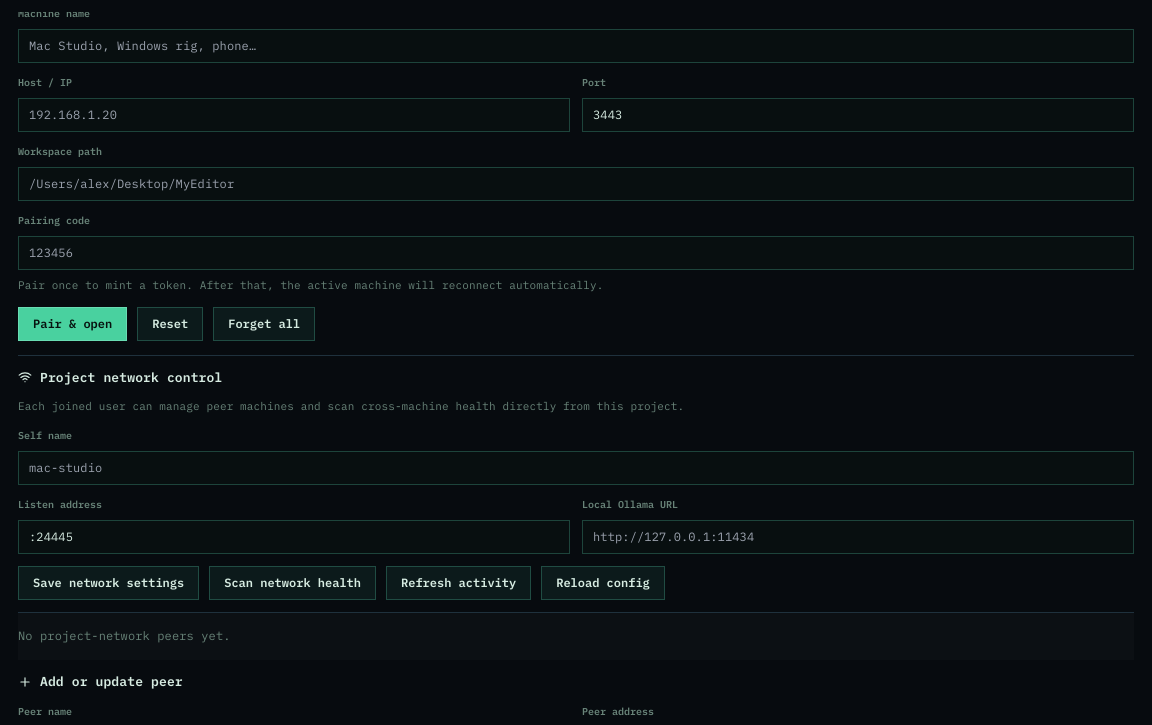
Test: MachineConnectionsPanel workflows › NoPairCodeAndNoToken_ErrorShown
(page scrolled)
Type "10.0.0.1" into the field with placeholder "192.168.1.20" at (294, 115), box [18, 98, 570, 132]
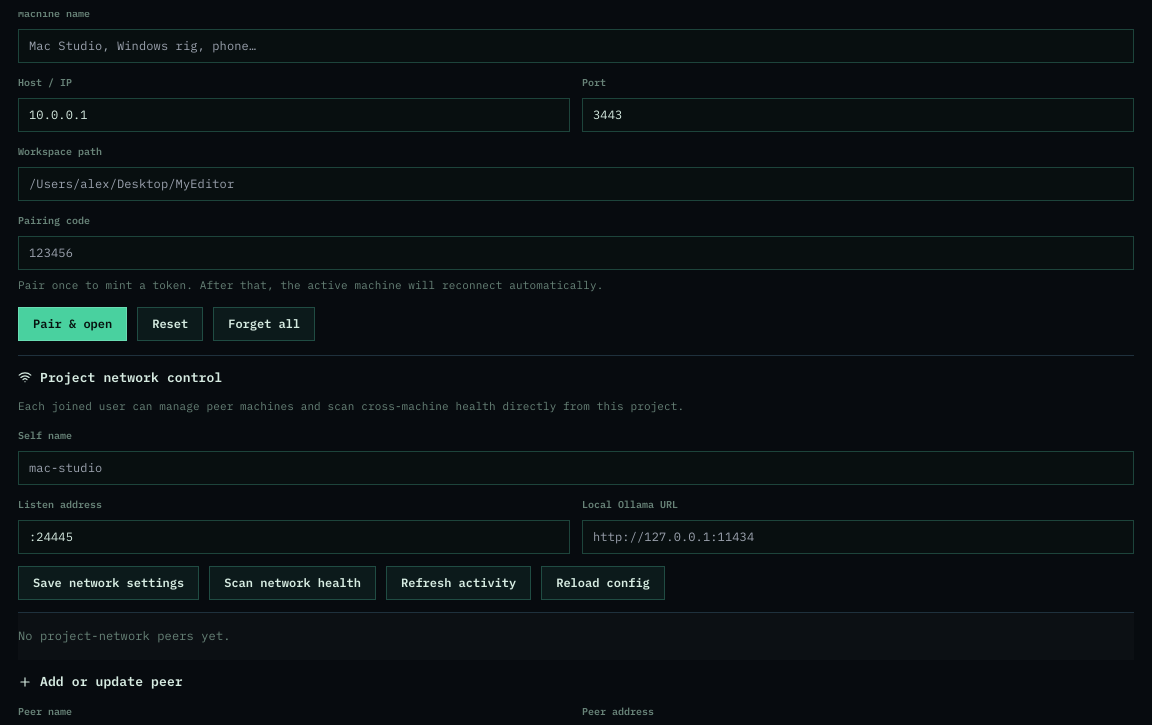
Type "/home/user" into the field with placeholder "/Users/alex/Desktop/MyEditor" at (576, 184), box [18, 167, 1134, 201]
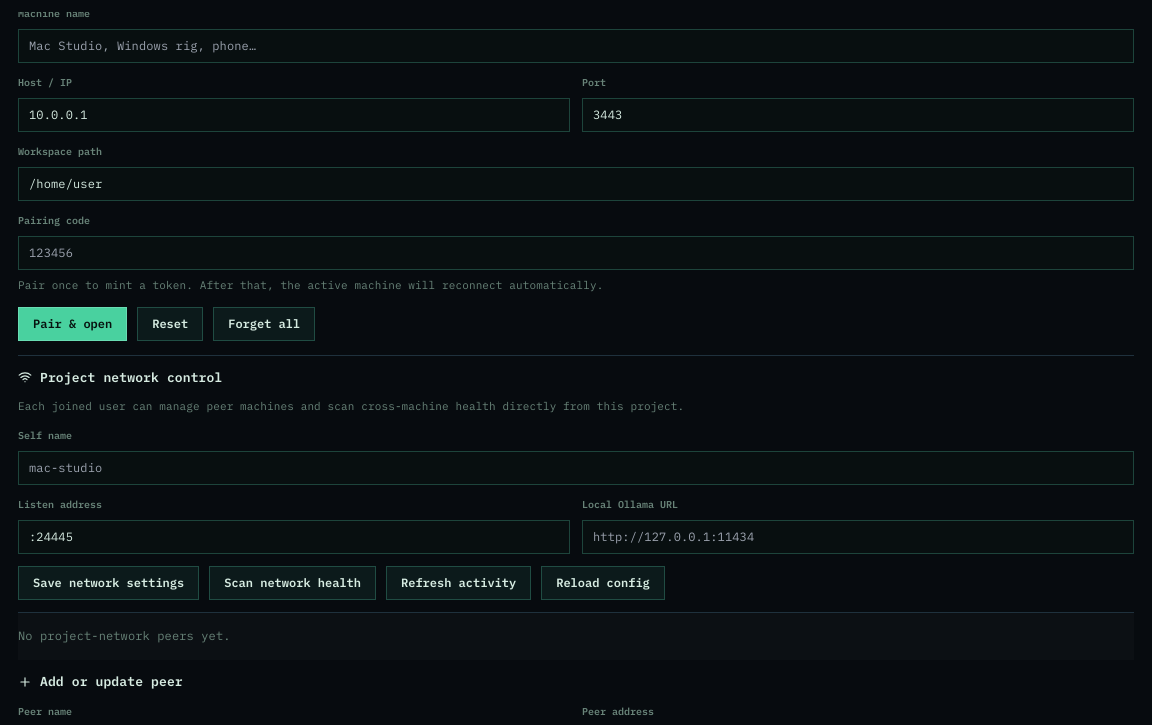
Click the button "Pair & open" at (73, 324), box [18, 307, 127, 341]
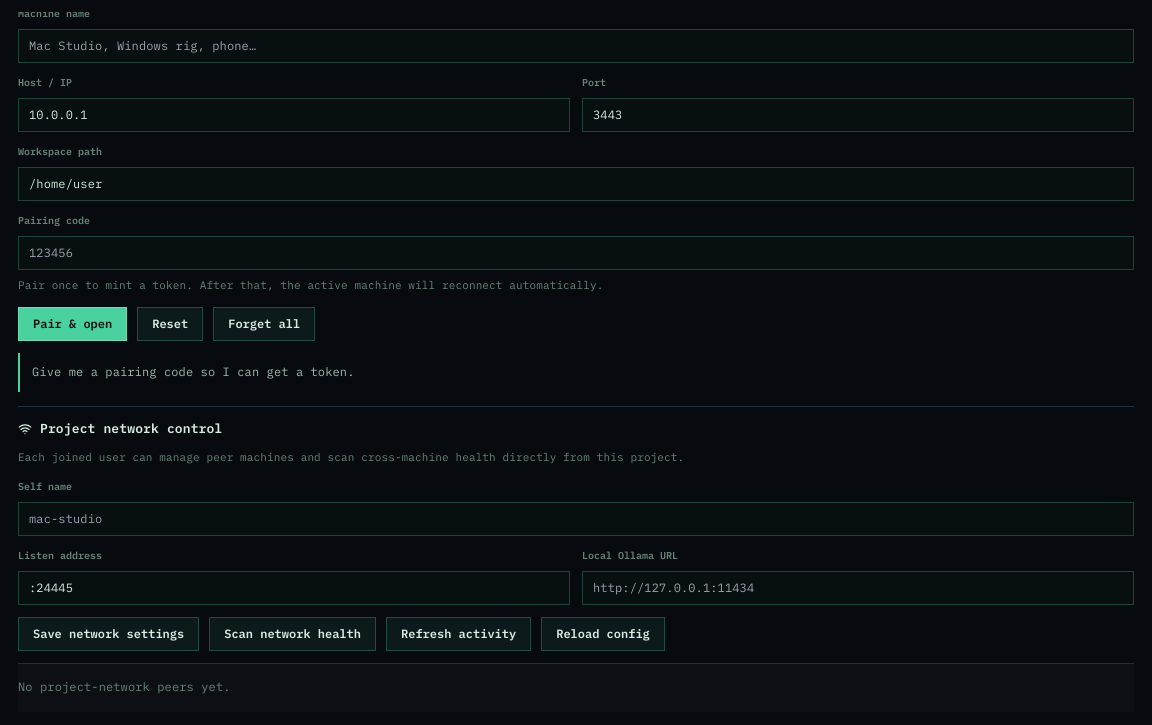
Result: the text "Give me a pairing code so I can get a token." is shown at [18, 353, 1134, 392]
